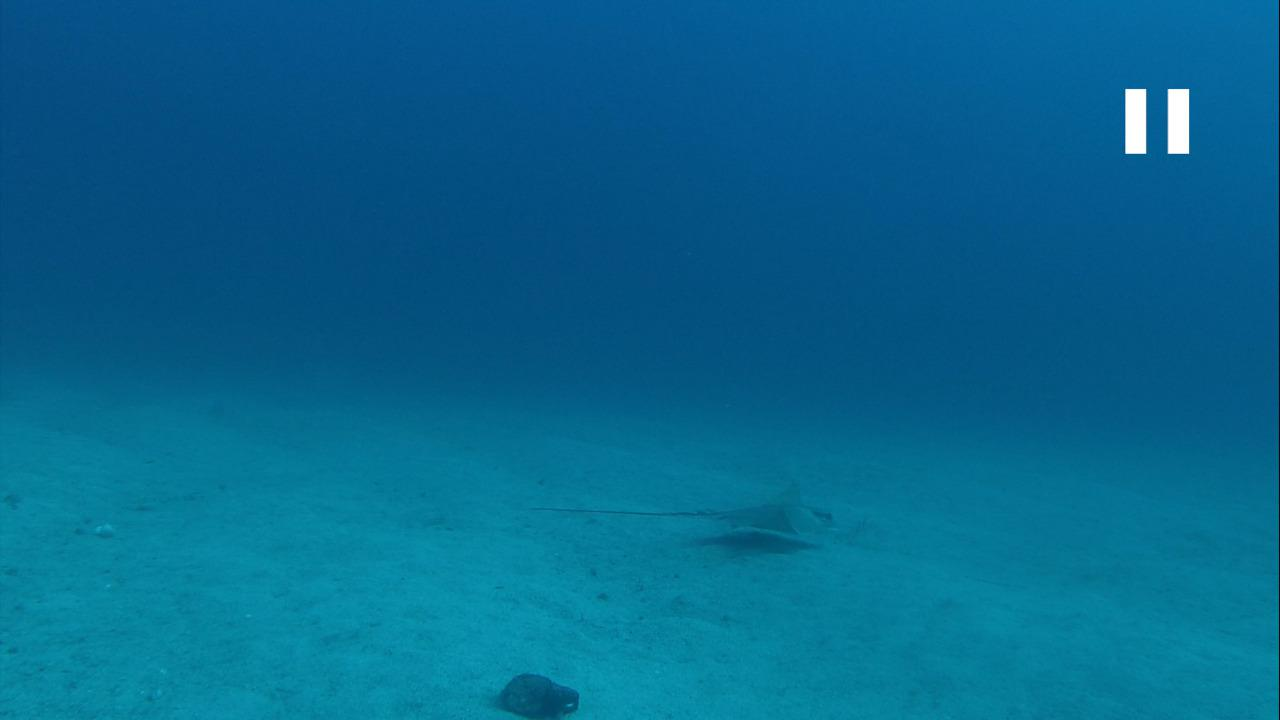myliobatis: (513, 475, 862, 560)
